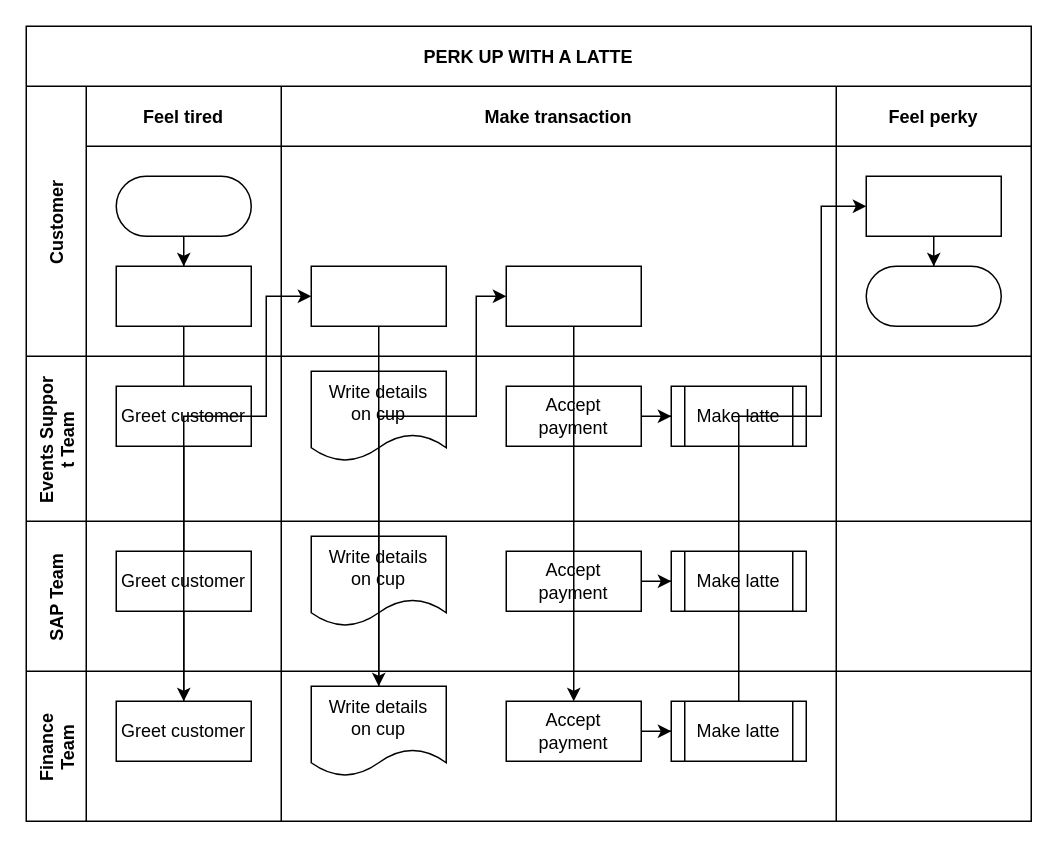
Some shapes in this 1058 by 848 pixel diagram are drawn without their labels. Here are the shapes that lost their labels. From the top down, the box of each, then its label:
(115, 175, 251, 236): Start
(865, 175, 1001, 236): Drink latte
(115, 265, 251, 326): Find barista
(310, 265, 446, 326): Request latte
(505, 265, 641, 326): Buy latte
(865, 265, 1001, 326): End
